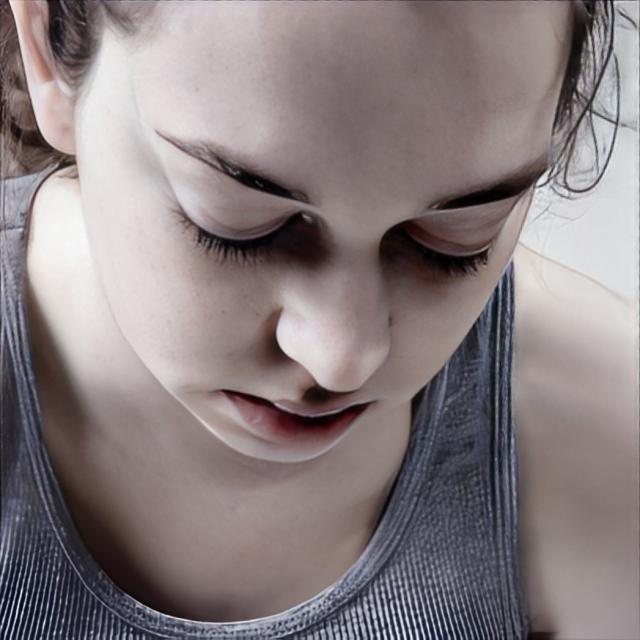sad: (77, 0, 574, 465)
